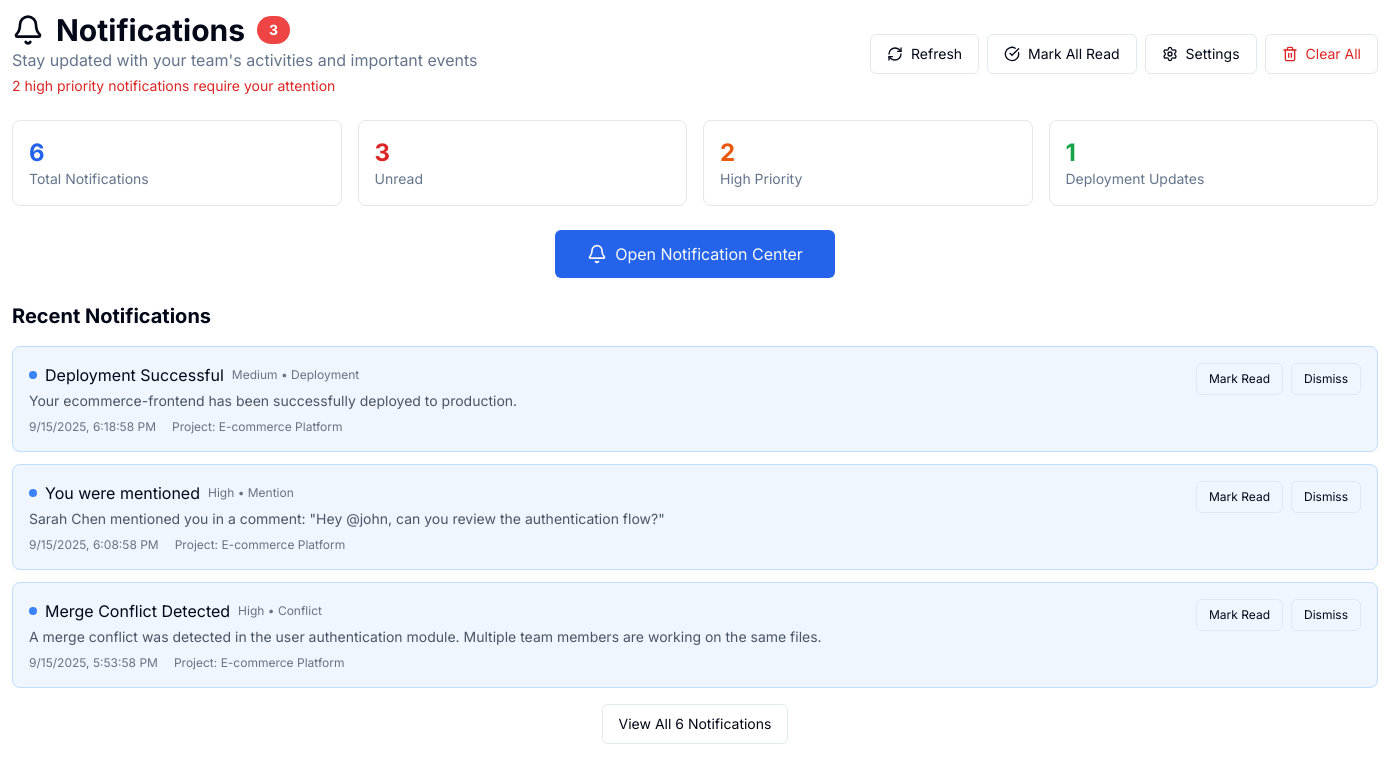
Test: Notifications Page › clears all notifications when clear all is clicked and confirmed
The image size is (1390, 780).
Click the button "Clear All" at (1321, 54), box [1265,34,1378,74]
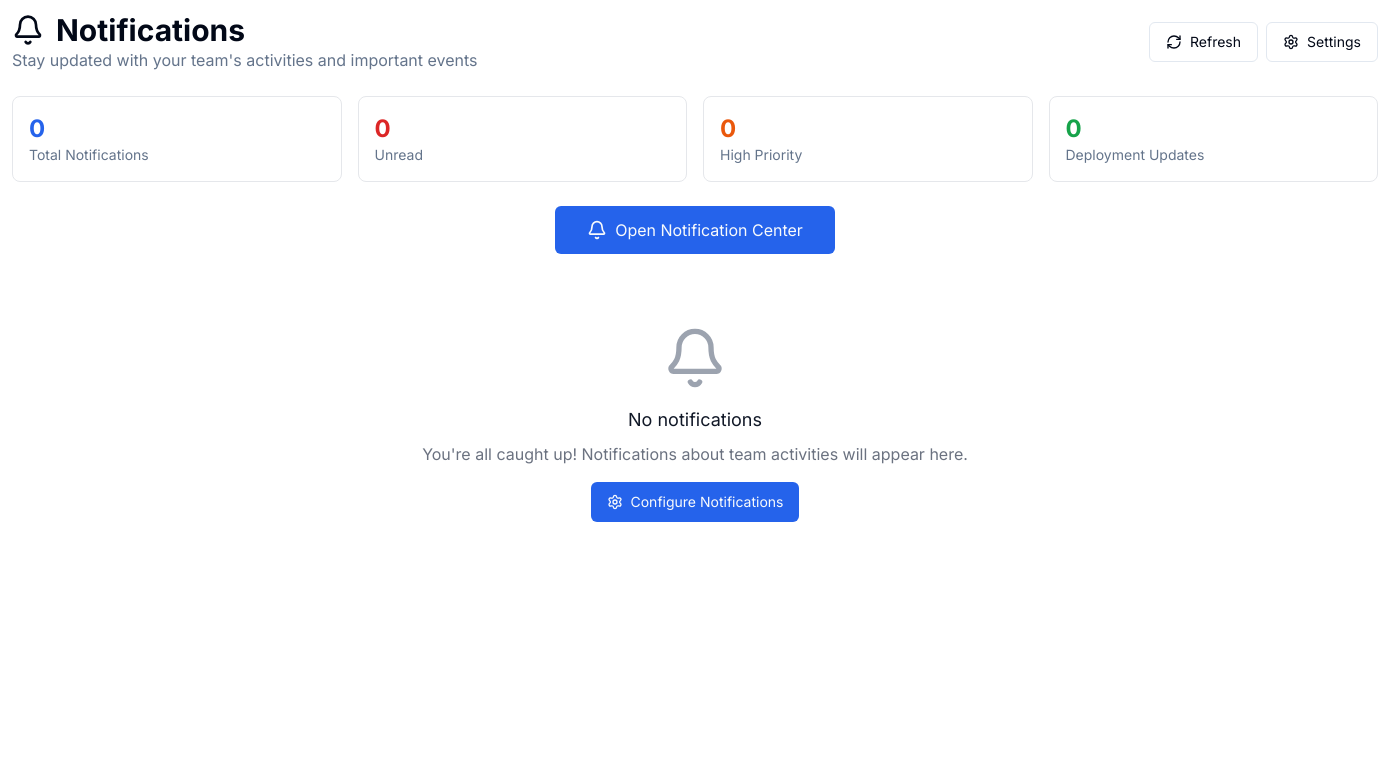
Result: the heading "No notifications" is shown at [628,409,762,430]
